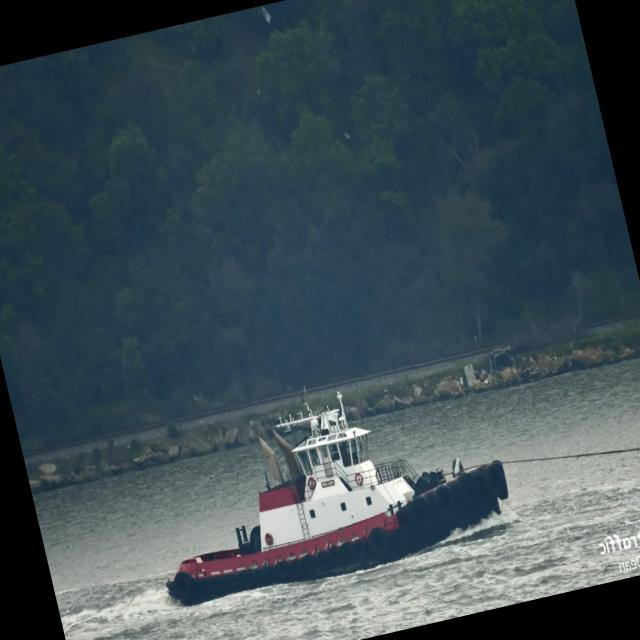Tug: (167, 392, 509, 604)
